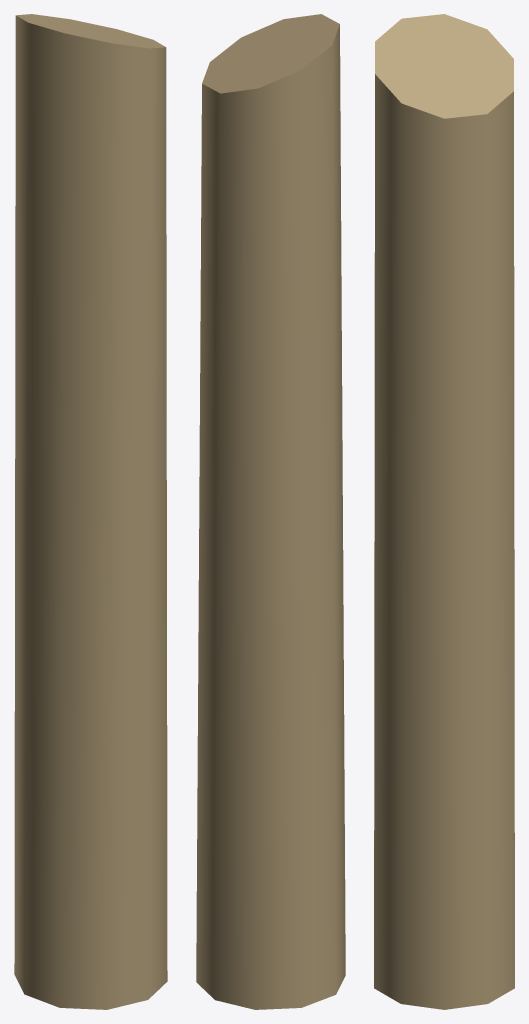
Rendered from bridge_pole.fbx.
The picture shows the model from 3 angles, left to right: view 1: azimuth 30°, elevation 25°; view 2: azimuth 150°, elevation 25°; view 3: azimuth 270°, elevation 25°; orthographic projection. The views are drawn at different scales.
Visible parts, largest first — view 1: bridge_pole; view 2: bridge_pole; view 3: bridge_pole.
Part boxes in pixels (x1=…): bridge_pole: x1=14, y1=14, x2=167, y2=1009; bridge_pole: x1=196, y1=14, x2=345, y2=1009; bridge_pole: x1=374, y1=14, x2=514, y2=1009.
Size of the model in its own units: 26.29 by 183 by 25.01.
